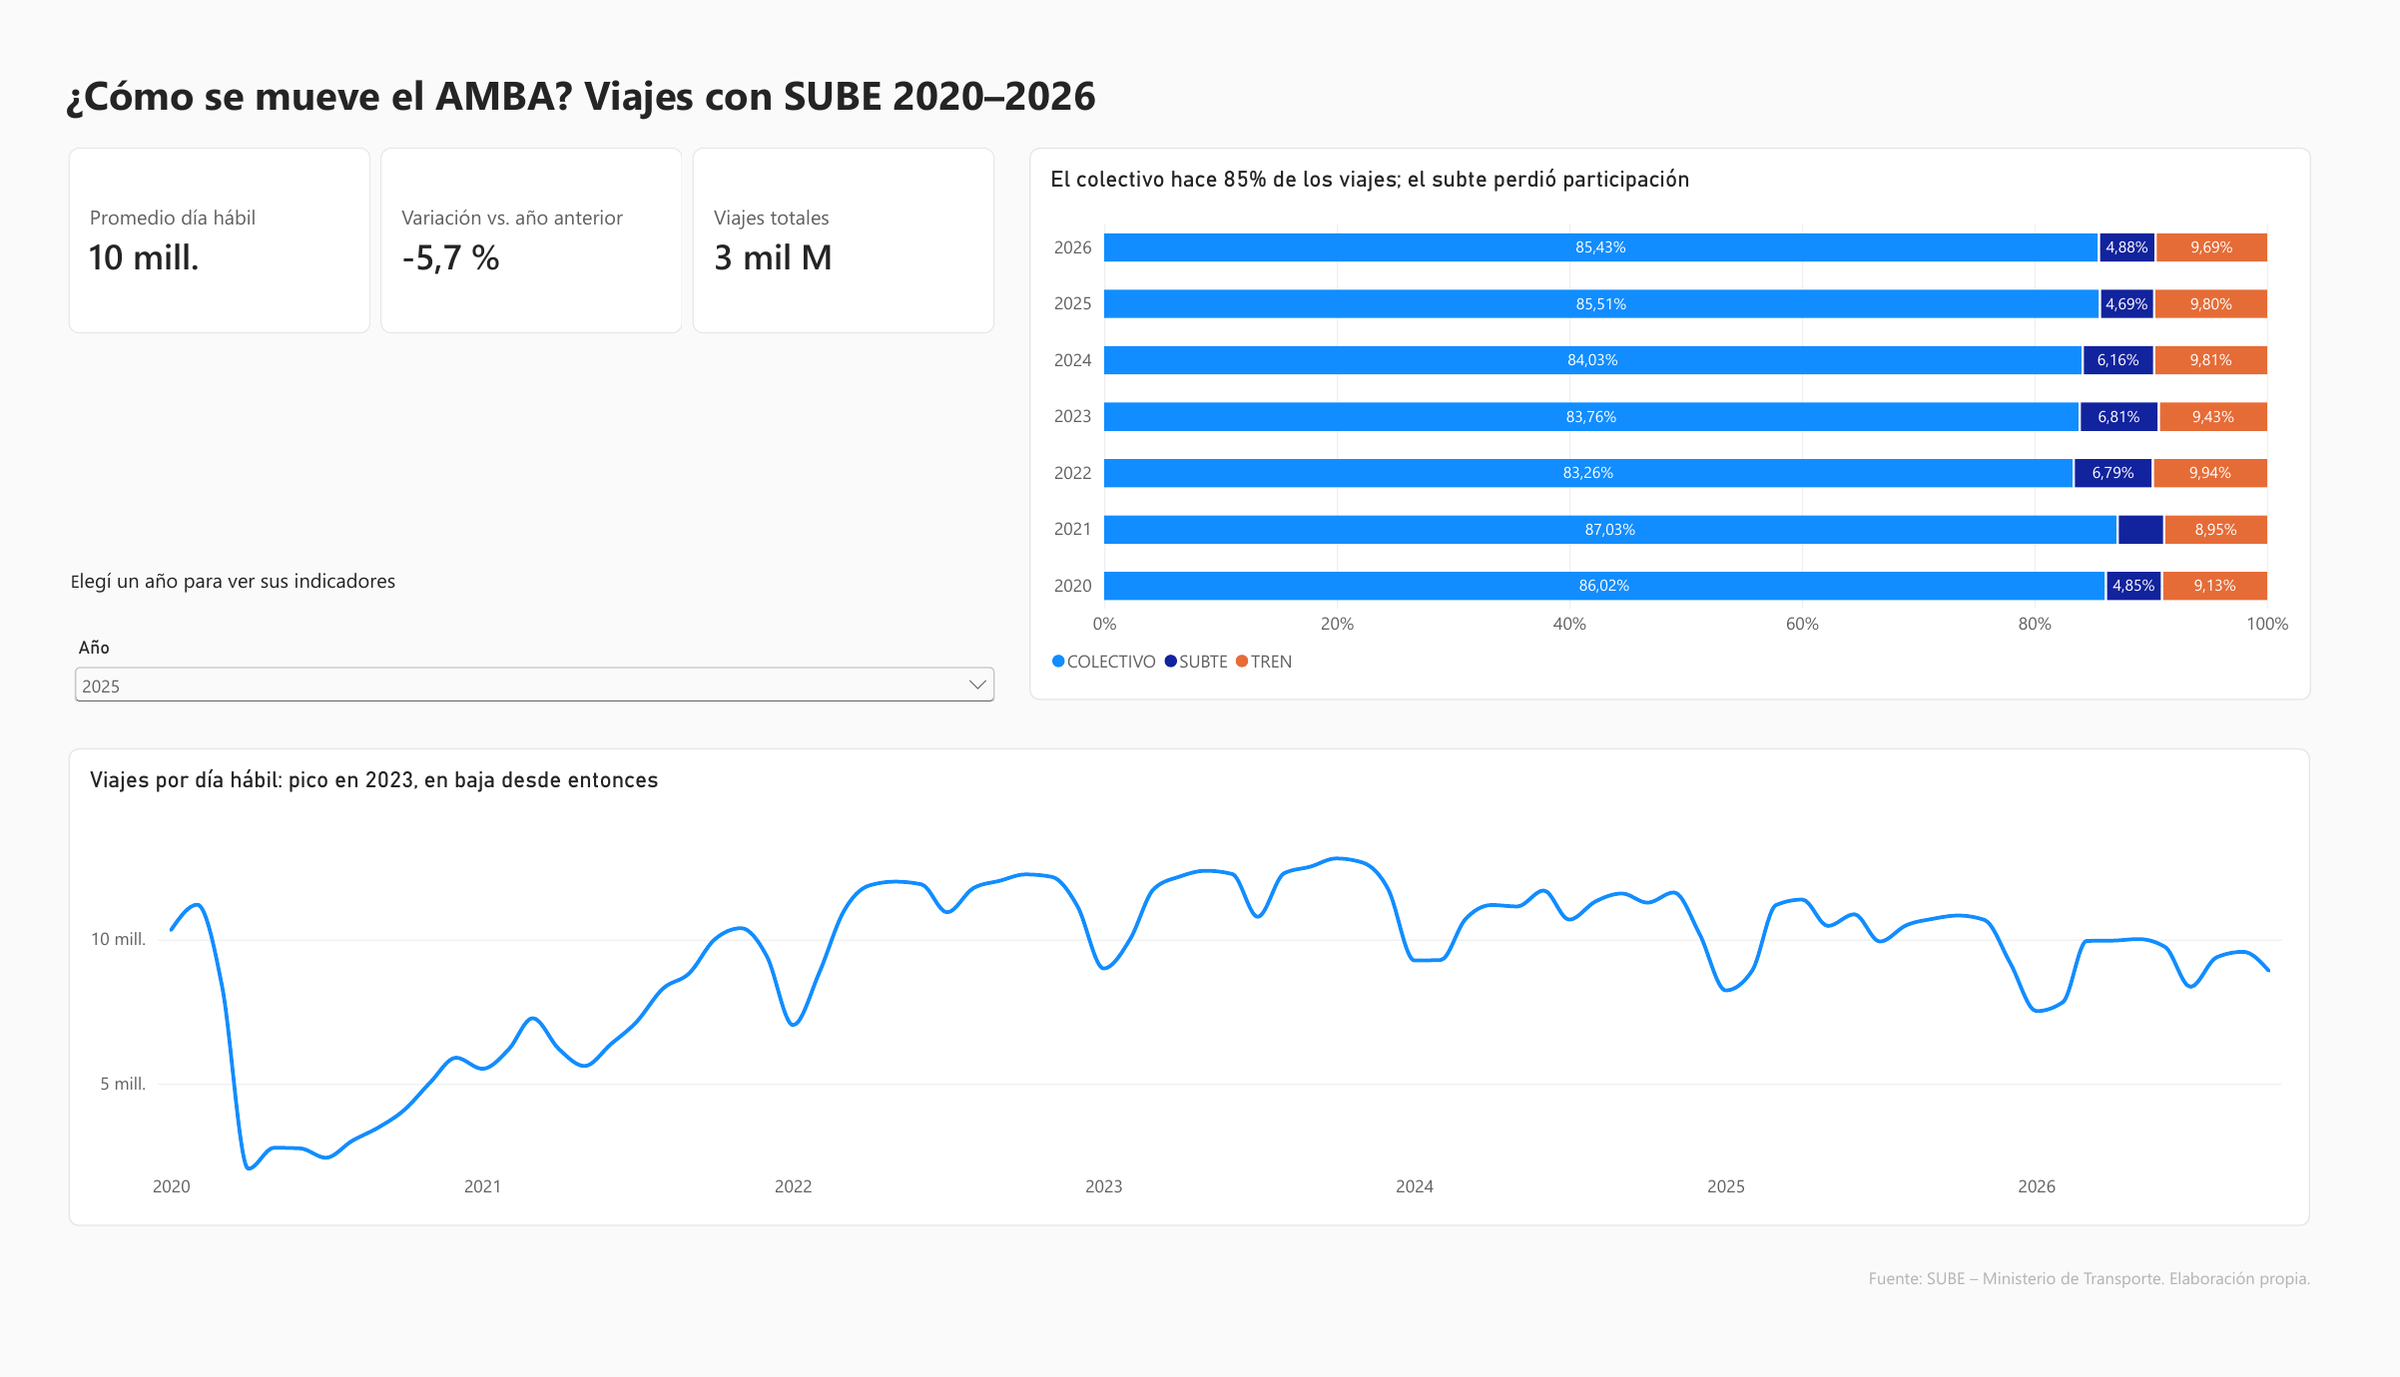

This screenshot's page, from the dashboard's own definition file:
{"tool":"powerbi","page":{"name":"Resumen","canvas":[1920,1080],"ordinal":0},"visuals":[{"type":"textbox","box":[53.6,53.6,955.3,65.1],"z":0},{"type":"slicer","fields":{"Values":["dim_fecha.anio"]},"box":[55,511.7,746.7,50],"z":1000},{"type":"cardVisual","fields":{"Data":["fact_usos_amba.Promedio día hábil","fact_usos_amba.Var. interanual %","fact_usos_amba.Usos"]},"box":[55,118.3,744.8,149.3],"z":2000},{"type":"lineChart","title":"Viajes por día hábil: pico en 2023, en baja desde entonces","fields":{"Category":["dim_fecha.inicio_mes"],"Y":["fact_usos_amba.Promedio día hábil"]},"box":[55,600,1796.1,382.9],"z":3000},{"type":"hundredPercentStackedBarChart","title":"El colectivo hace 85% de los viajes; el subte perdió participación","fields":{"Category":["dim_fecha.anio"],"Series":["dim_linea.modo"],"Y":["fact_usos_amba.Usos"]},"box":[825,118.3,1026.7,443.3],"z":4000},{"type":"textbox","box":[1106.7,1015,745,40],"z":4001},{"type":"textbox","box":[56.7,455,745,45],"z":4002}]}

Visuals, with their boxes in screenshot pixels (x1, y1, x2, y2), scaled from the page's 1920x1080 canvas onto the 2400x1377 screenshot:
textbox: [x1=67, y1=68, x2=1261, y2=151]
slicer - dim_fecha.anio: [x1=69, y1=652, x2=1002, y2=716]
cardVisual - fact_usos_amba.Promedio día hábil x fact_usos_amba.Var. interanual %: [x1=69, y1=151, x2=1000, y2=341]
"Viajes por día hábil: pico en 2023, en baja desde entonces" lineChart: [x1=69, y1=765, x2=2314, y2=1253]
"El colectivo hace 85% de los viajes; el subte perdió participación" hundredPercentStackedBarChart: [x1=1031, y1=151, x2=2315, y2=716]
textbox: [x1=1383, y1=1294, x2=2315, y2=1345]
textbox: [x1=71, y1=580, x2=1002, y2=638]
